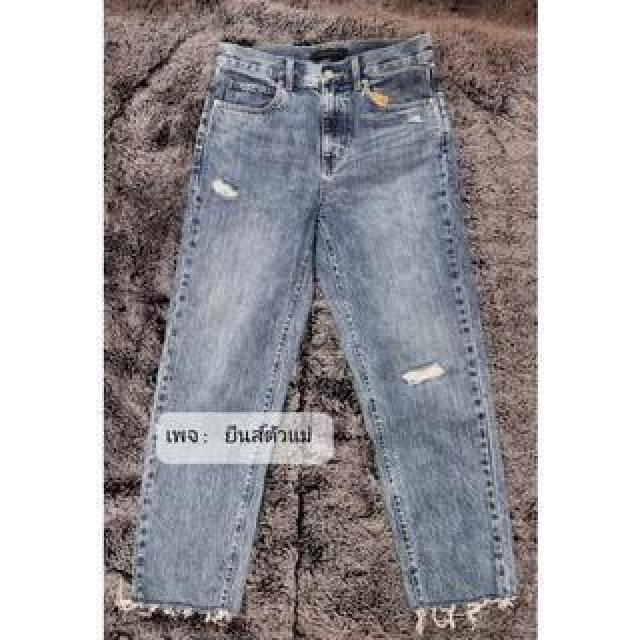pants: (130, 18, 530, 620)
